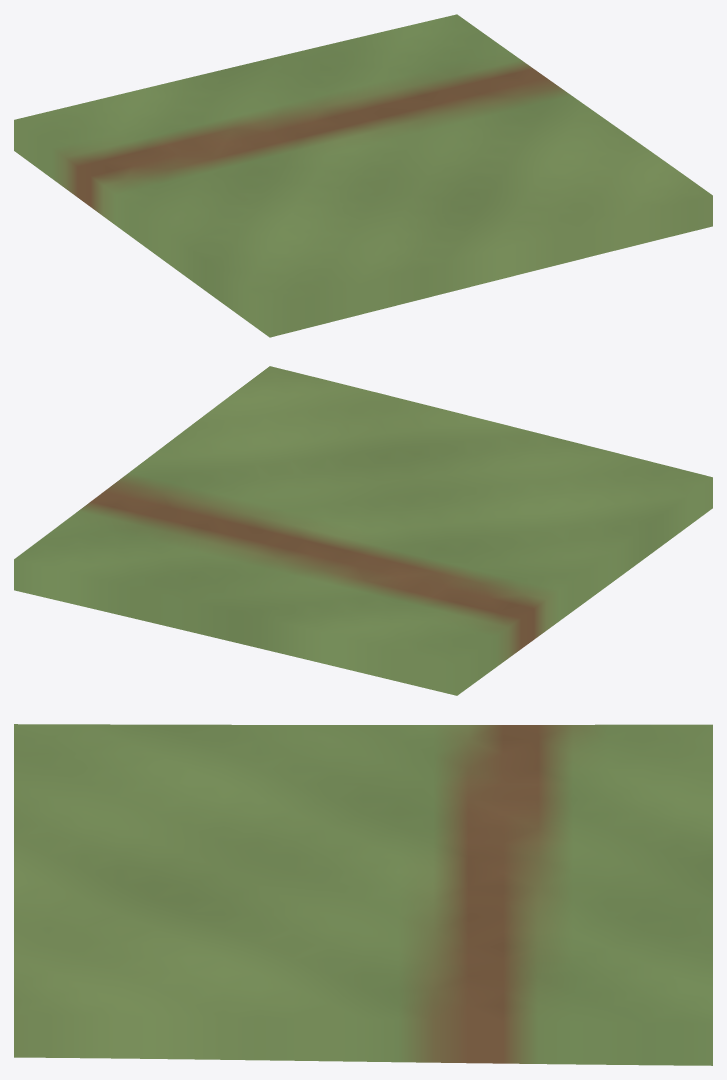
The picture shows the model from 3 angles, top to bottom: view 1: azimuth 30°, elevation 25°; view 2: azimuth 150°, elevation 25°; view 3: azimuth 270°, elevation 25°; orthographic projection. The views are drawn at different scales.
Visible parts, largest first — view 1: terrain; view 2: terrain; view 3: terrain.
Boxes of the visible parts, x1,y1,x2,y2 form: terrain: [14, 14, 712, 337]; terrain: [14, 366, 712, 695]; terrain: [14, 724, 712, 1065].
Size of the model in its own units: 30 by 2.39 by 30.
